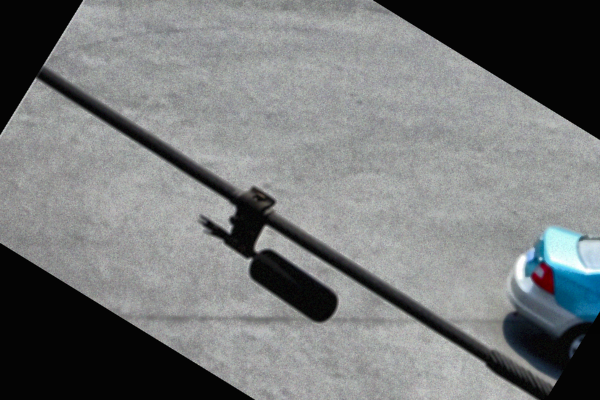damper_defect: (189, 180, 341, 325)
